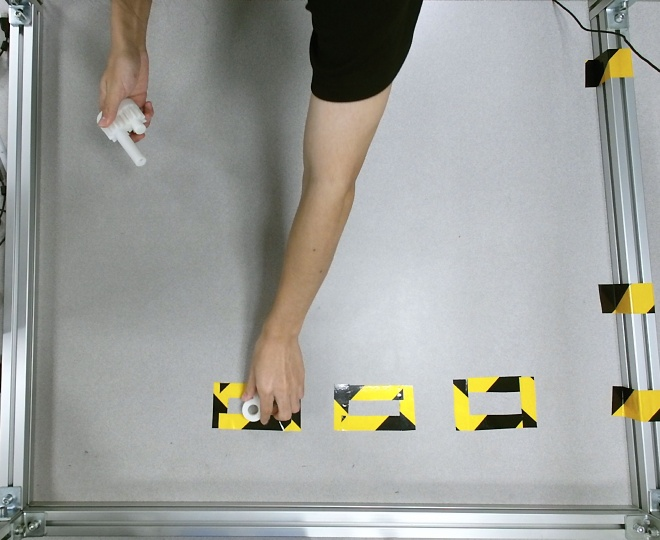stage_3: (96, 99, 146, 165)
